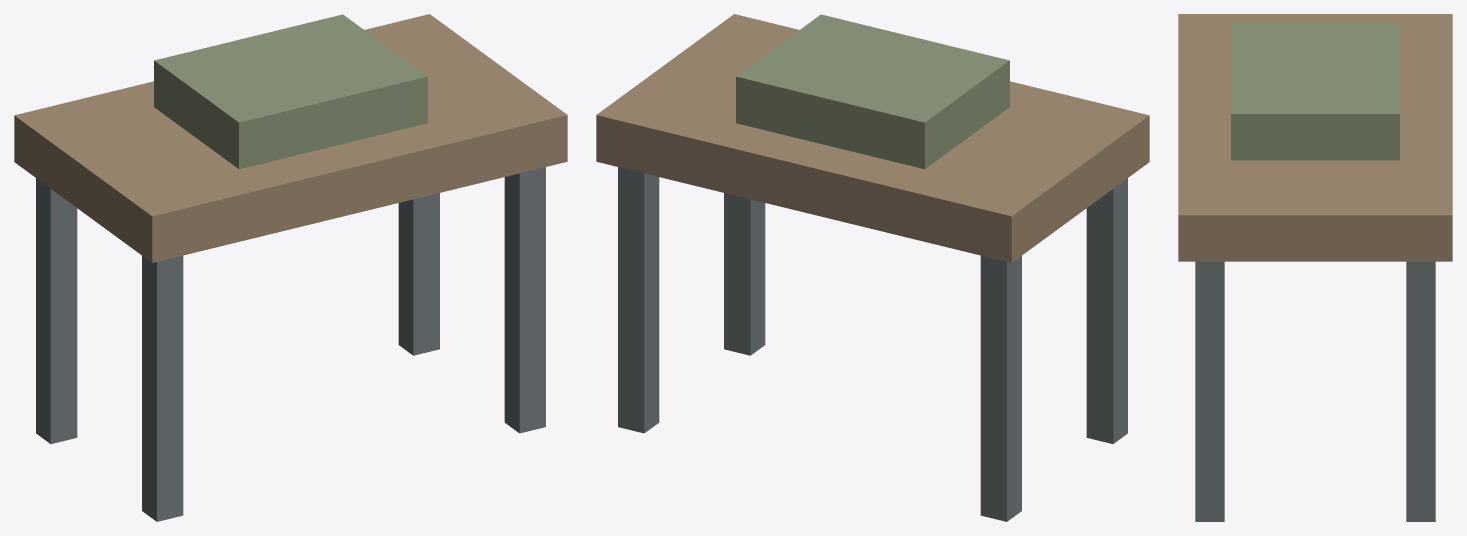
The model's file is iz2_food_smoking_cabinet.glb.
The picture shows the model from 3 angles, left to right: view 1: azimuth 30°, elevation 25°; view 2: azimuth 150°, elevation 25°; view 3: azimuth 270°, elevation 25°; orthographic projection.
Parts seen in each view (by area): view 1: body; view 2: body; view 3: body.
Part boxes in pixels (x1,y1,x2,y2): body: (14,14,567,521); body: (596,14,1149,521); body: (1178,14,1452,521).
Size of the model in its own units: 1.1 by 0.9161 by 0.6338.
